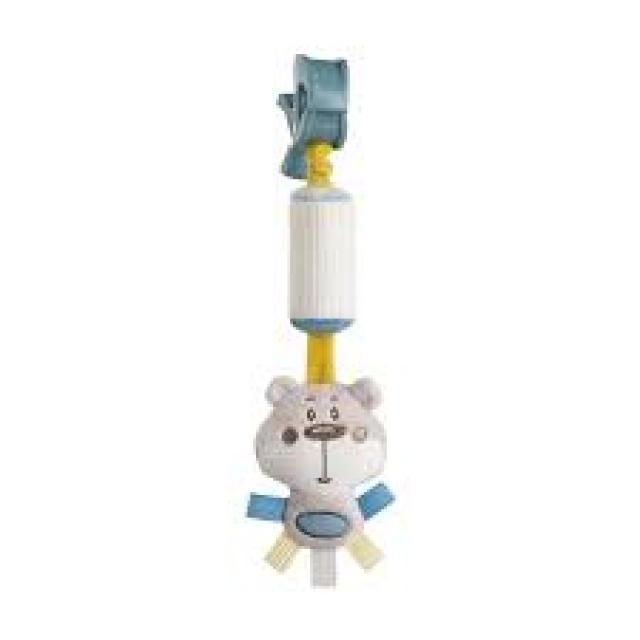soft-toy: (256, 56, 392, 570)
